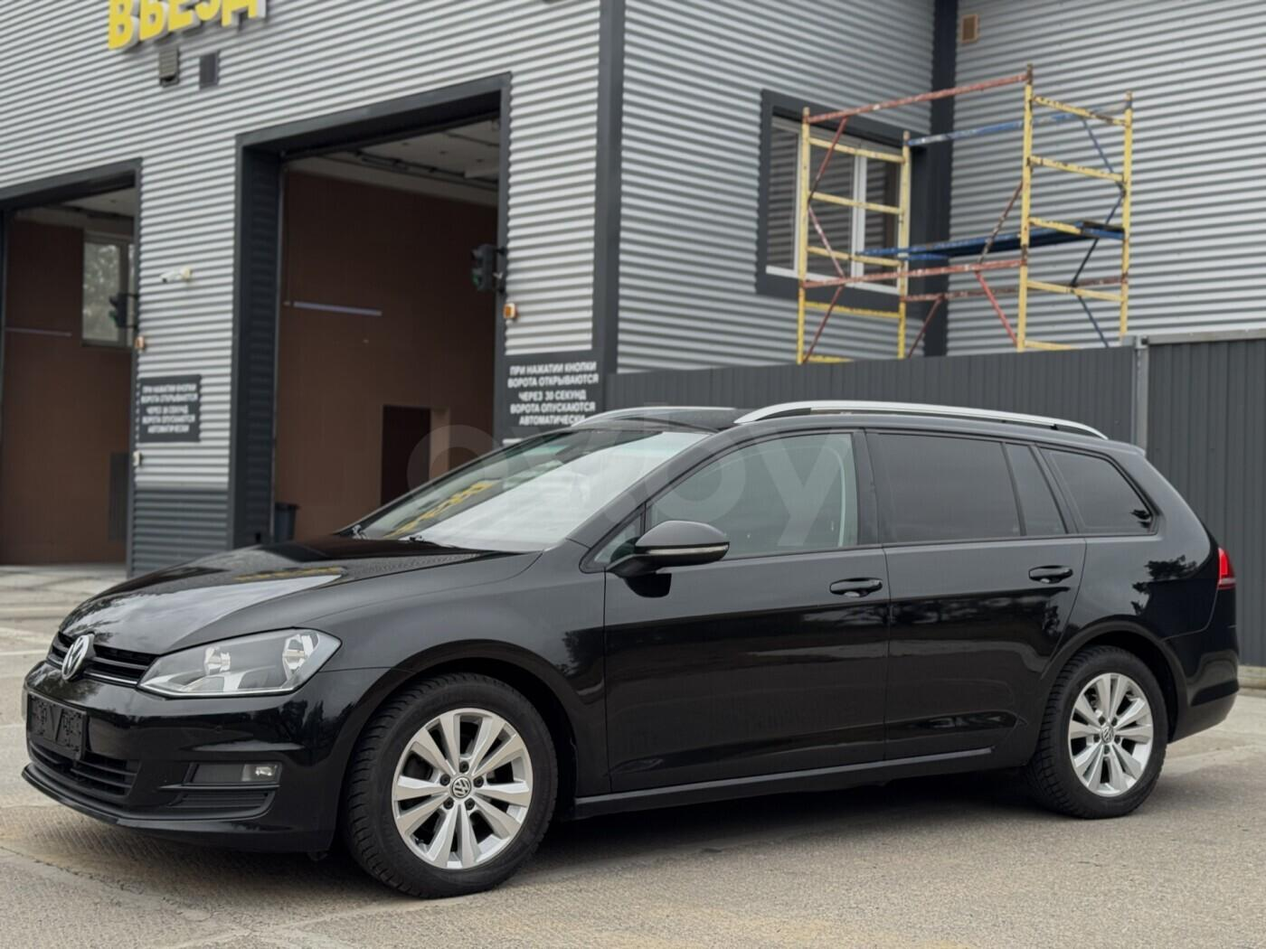Golf_2012-2017: (18, 402, 1244, 876)
